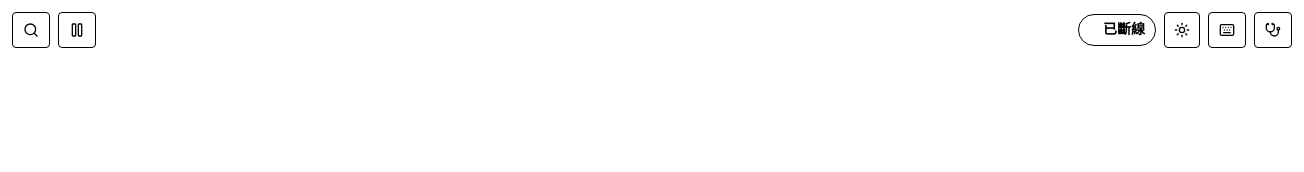
Test: compact 覆蓋式搜尋（T060、FR-032、FR-034a） › 點圖示鈕展開覆蓋並聚焦輸入框；aria-expanded／aria-controls 指向覆蓋；導航組 ≤ 4
Click the button named "搜尋機台" at x=31, y=30, box x1=12 y1=12 x2=50 y2=48
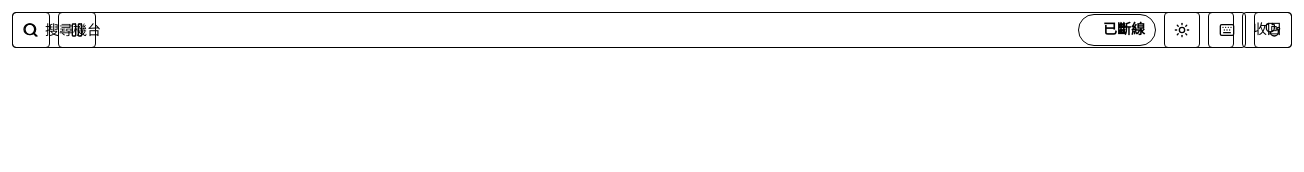
Expected: the element showing "收回" is shown, x1=12 y1=12 x2=1292 y2=48
Expected: the button named "搜尋機台" is expanded, x1=12 y1=12 x2=50 y2=48
